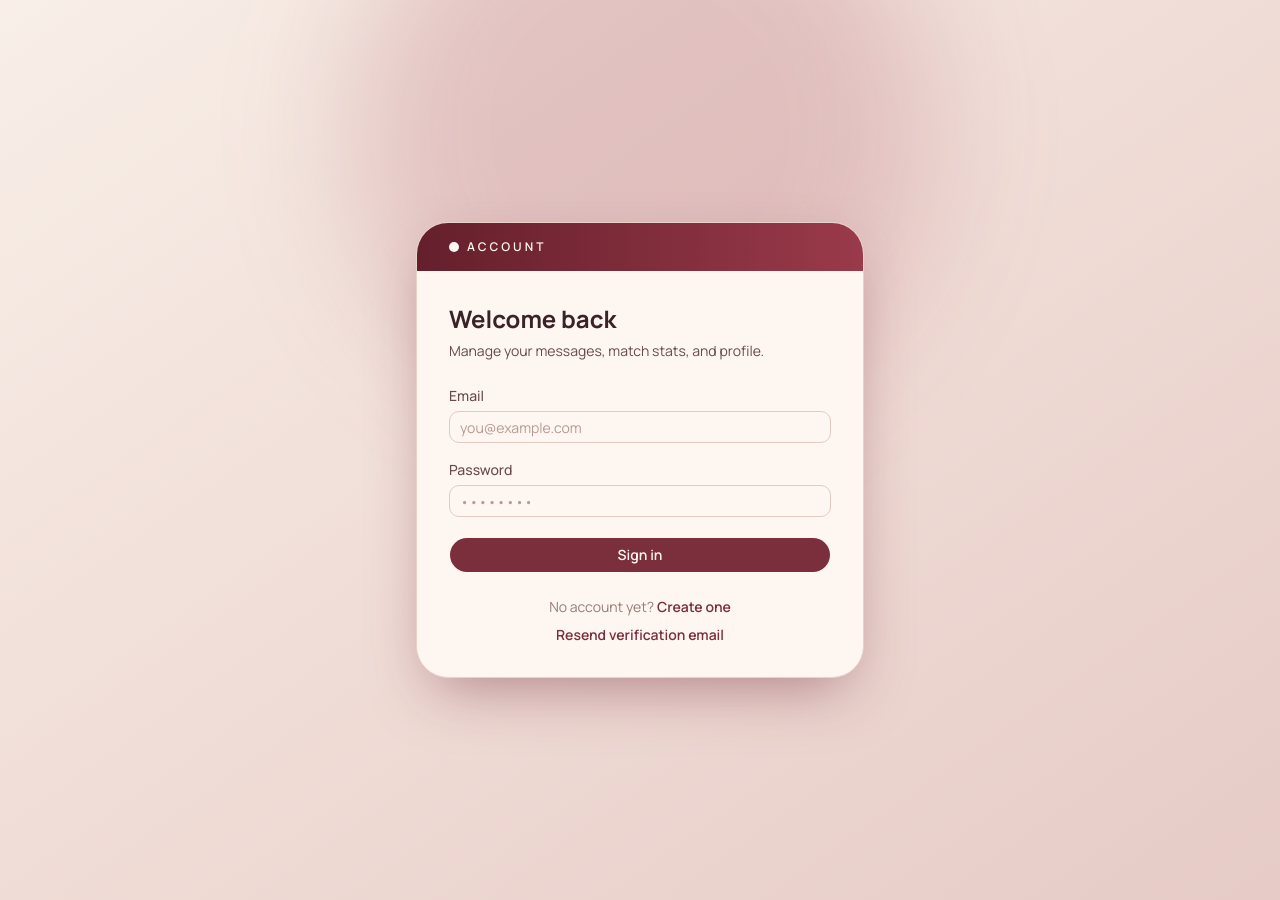
LoginPage › shows backend validation errors beside their fields
Type "  Diego@Example.com  " into the field labelled "Email".
click(640, 427); type("  Diego@Example.com  ")  # box [449,411,831,443]
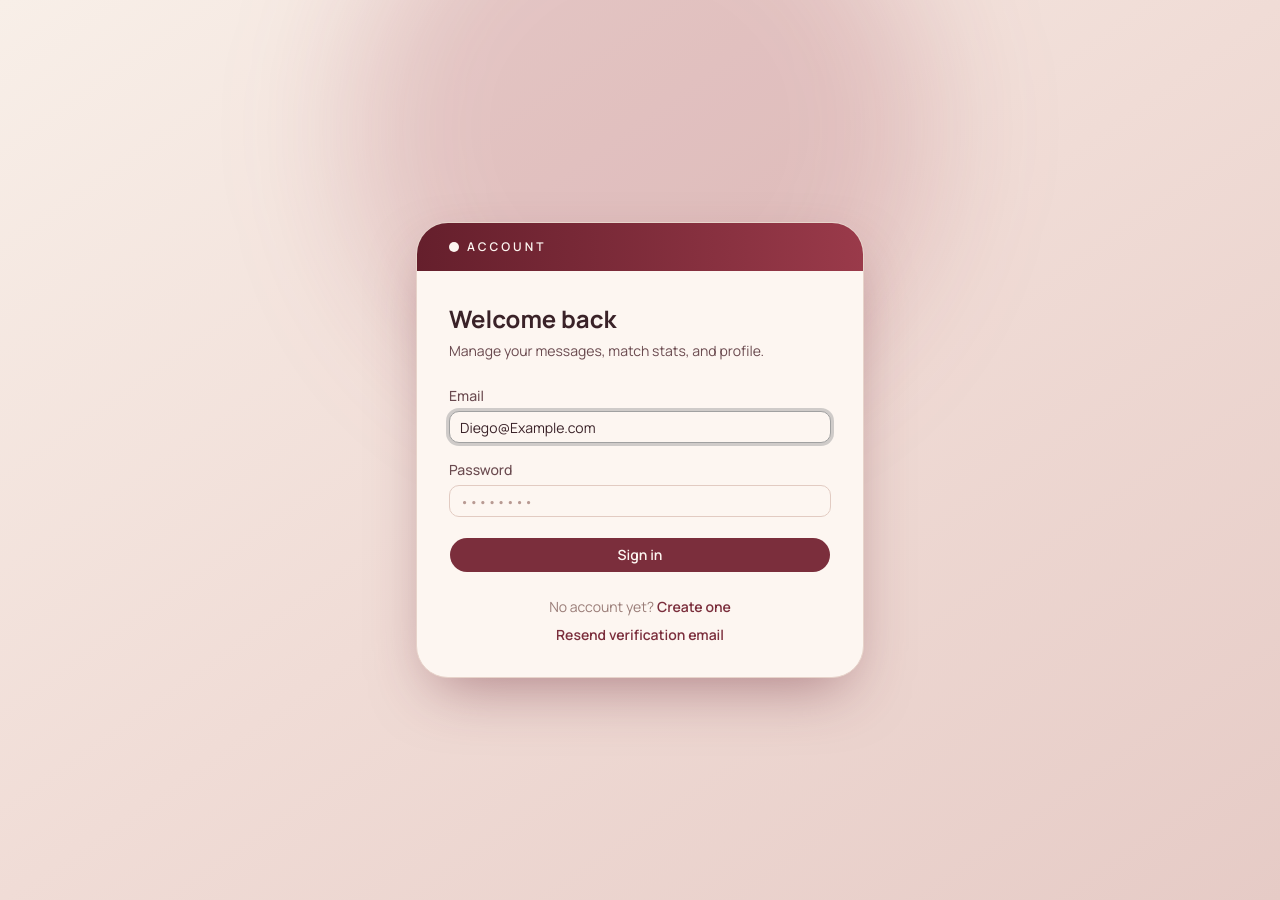
Type "password123" into the password field labelled "Password".
click(640, 501); type("password123")  # box [449,485,831,517]
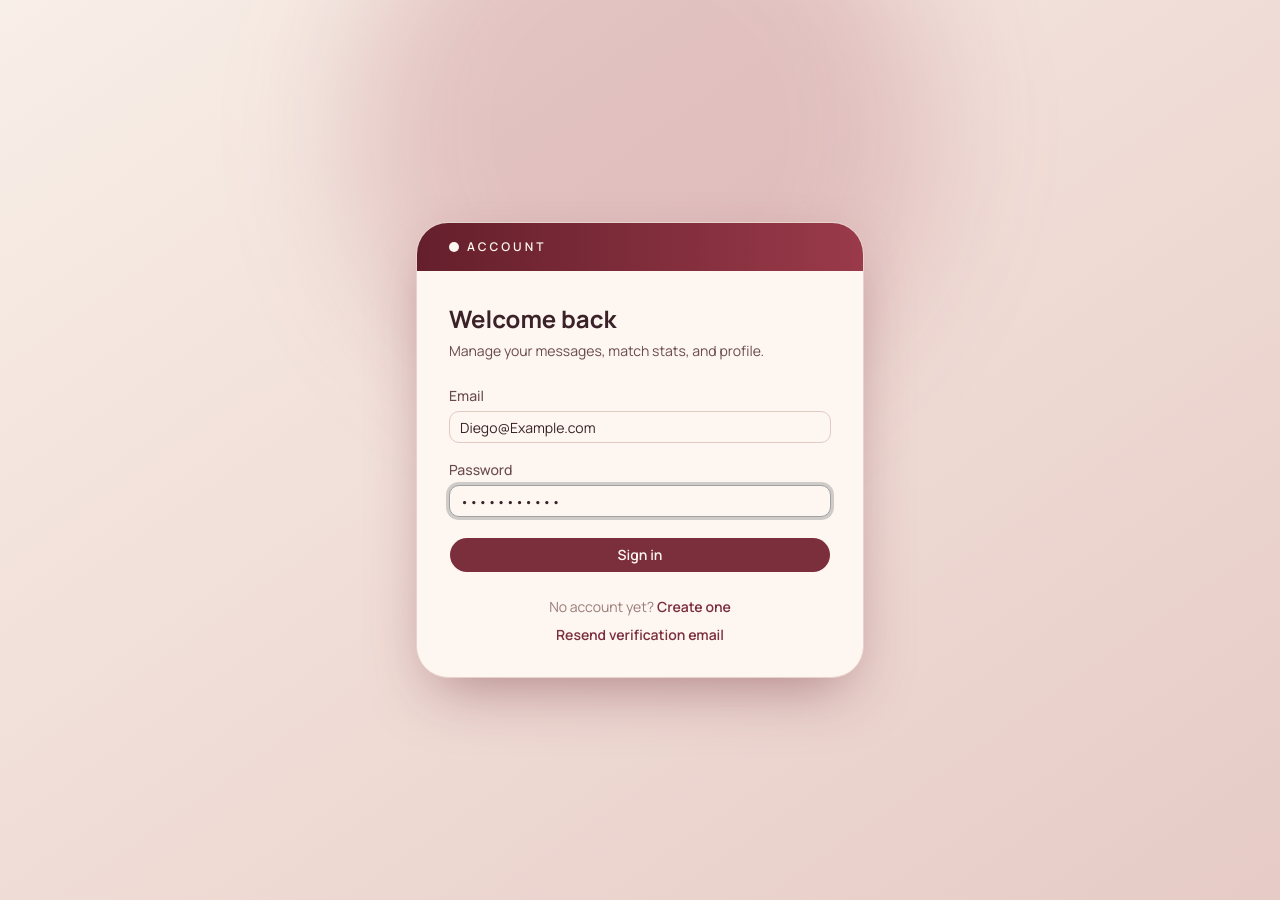
Click the button "Sign in".
click(640, 555)  # box [449,537,831,573]
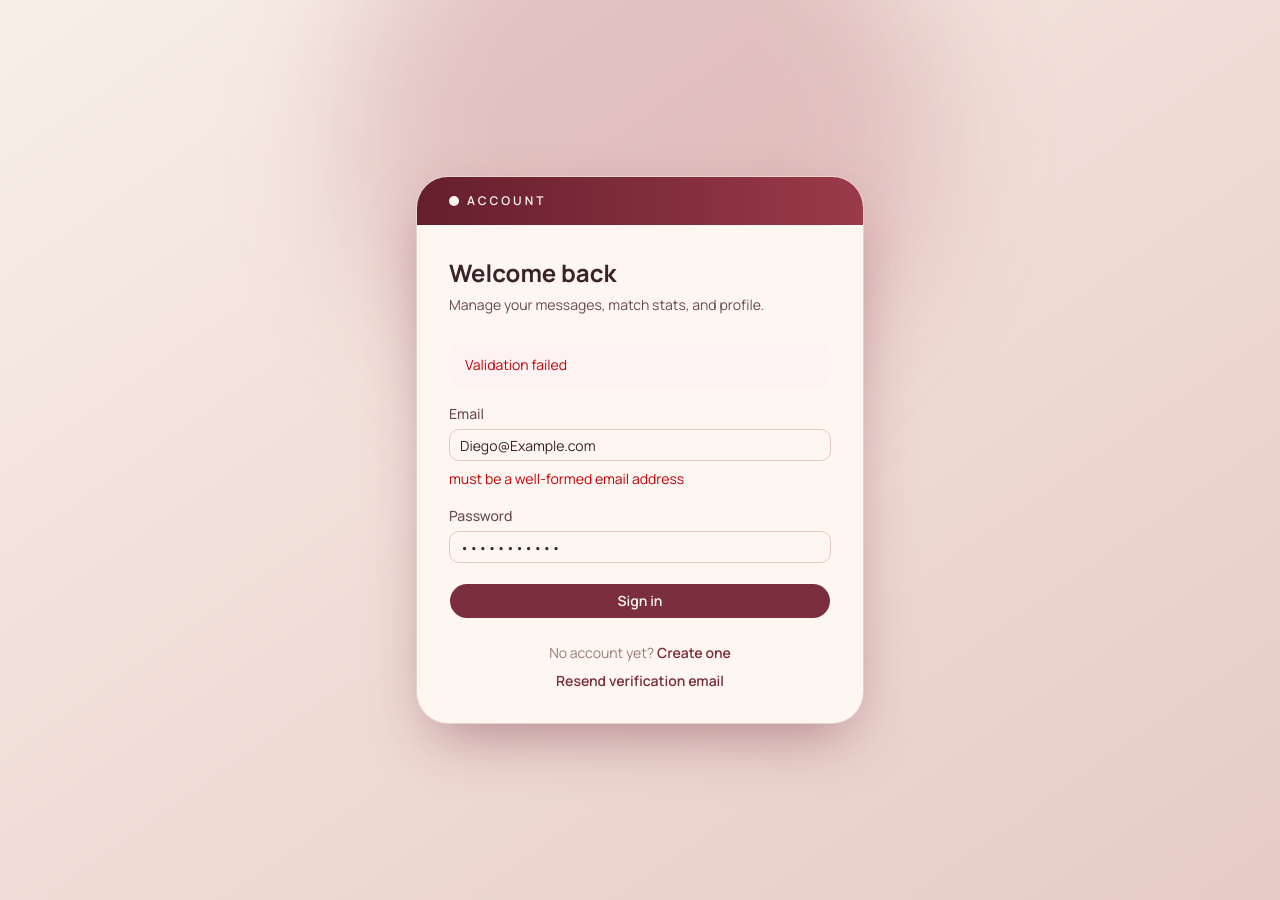
Expected: the text "Validation failed" is shown, [449,343,831,387]
Expected: the text "must be a well-formed email address" is shown, [449,469,684,488]
